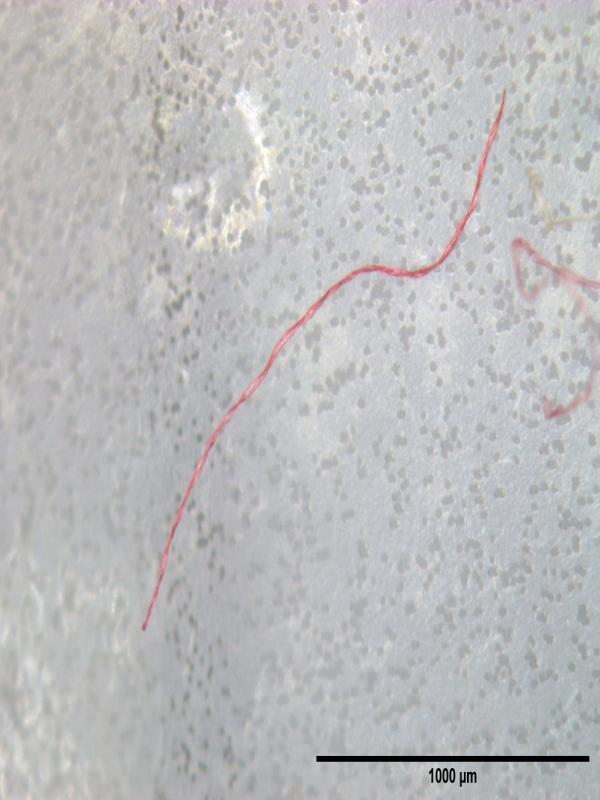microplastic: (140, 84, 507, 632)
